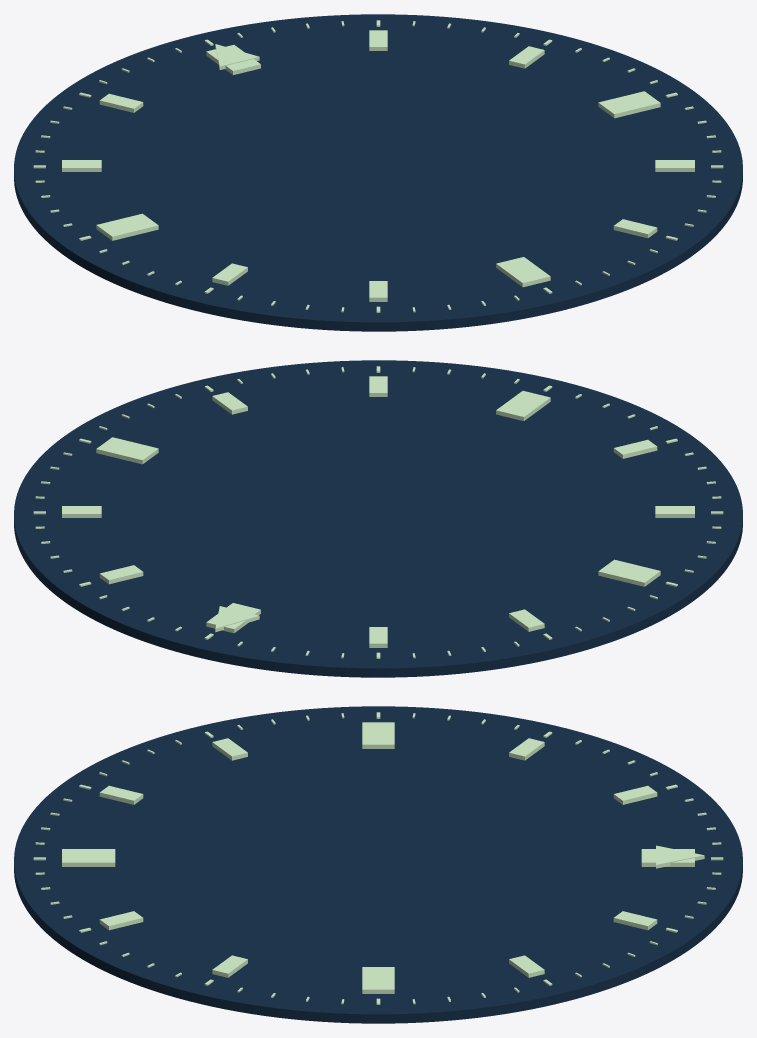
File: dial-diver.glb
3 renders of one model, top to bottom at view 1: azimuth 30°, elevation 25°; view 2: azimuth 150°, elevation 25°; view 3: azimuth 270°, elevation 25°, orthographic.
Visible parts, largest first — view 1: DD_ARCH_DIAL_FACE, DD_ARCH_DIVE_INDEX_03, DD_ARCH_DIVE_INDEX_09, DD_ARCH_DIVE_INDEX_06, DD_ARCH_DIVE_ORIENTATION, DD_ARCH_DIVE_INDEX_00, DD_ARCH_DIVE_INDEX_11, DD_ARCH_DIVE_INDEX_05; view 2: DD_ARCH_DIAL_FACE, DD_ARCH_DIVE_INDEX_03, DD_ARCH_DIVE_INDEX_09, DD_ARCH_DIVE_INDEX_06, DD_ARCH_DIVE_ORIENTATION, DD_ARCH_DIVE_INDEX_07, DD_ARCH_DIVE_INDEX_01; view 3: DD_ARCH_DIAL_FACE, DD_ARCH_DIVE_INDEX_06, DD_ARCH_DIVE_INDEX_03, DD_ARCH_DIVE_INDEX_09, DD_ARCH_DIVE_ORIENTATION, DD_ARCH_DIVE_INDEX_07, DD_ARCH_DIVE_INDEX_11, DD_ARCH_DIVE_INDEX_01, DD_ARCH_DIVE_INDEX_05.
Part boxes in pixels (bbox=[...]): DD_ARCH_DIAL_FACE: bbox=[14, 14, 742, 331]; DD_ARCH_DIVE_INDEX_03: bbox=[598, 91, 660, 118]; DD_ARCH_DIVE_INDEX_09: bbox=[96, 213, 158, 240]; DD_ARCH_DIVE_INDEX_06: bbox=[496, 257, 550, 287]; DD_ARCH_DIVE_ORIENTATION: bbox=[215, 44, 259, 69]; DD_ARCH_DIVE_INDEX_00: bbox=[206, 45, 260, 74]; DD_ARCH_DIVE_INDEX_11: bbox=[99, 93, 143, 112]; DD_ARCH_DIVE_INDEX_05: bbox=[613, 219, 657, 238]; DD_ARCH_DIAL_FACE: bbox=[14, 360, 742, 677]; DD_ARCH_DIVE_INDEX_03: bbox=[96, 437, 158, 464]; DD_ARCH_DIVE_INDEX_09: bbox=[598, 559, 660, 586]; DD_ARCH_DIVE_INDEX_06: bbox=[496, 391, 550, 420]; DD_ARCH_DIVE_ORIENTATION: bbox=[215, 606, 259, 632]; DD_ARCH_DIVE_INDEX_07: bbox=[613, 439, 657, 458]; DD_ARCH_DIVE_INDEX_01: bbox=[99, 565, 143, 584]; DD_ARCH_DIAL_FACE: bbox=[14, 706, 742, 1023]; DD_ARCH_DIVE_INDEX_06: bbox=[62, 849, 115, 866]; DD_ARCH_DIVE_INDEX_03: bbox=[362, 967, 394, 993]; DD_ARCH_DIVE_INDEX_09: bbox=[362, 722, 394, 748]; DD_ARCH_DIVE_ORIENTATION: bbox=[656, 845, 704, 868]; DD_ARCH_DIVE_INDEX_07: bbox=[99, 785, 143, 804]; DD_ARCH_DIVE_INDEX_11: bbox=[613, 785, 657, 804]; DD_ARCH_DIVE_INDEX_01: bbox=[613, 911, 657, 930]; DD_ARCH_DIVE_INDEX_05: bbox=[99, 911, 143, 930].
Bounding box in the file's own units: 28.5 × 0.62 × 28.5.
